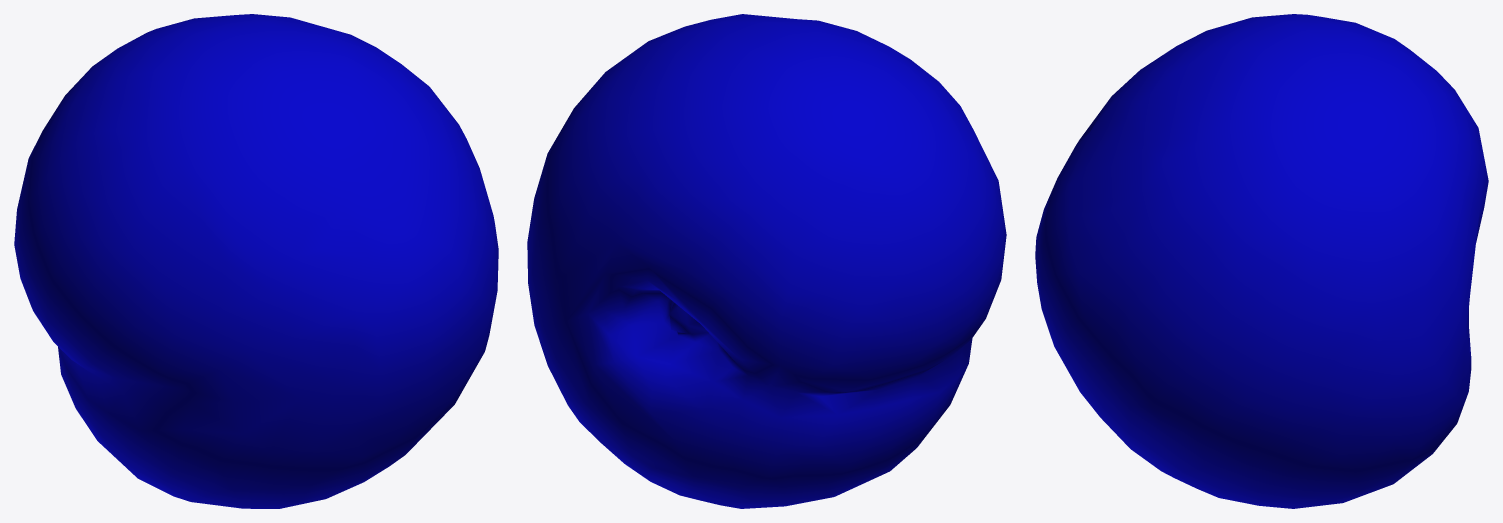
The model's file is 08194_sparse_textured_ok.obj.
3 renders of one model, left to right at view 1: azimuth 30°, elevation 25°; view 2: azimuth 150°, elevation 25°; view 3: azimuth 270°, elevation 25°, orthographic. The views are drawn at different scales.
Visible parts, largest first — view 1: textured_ok; view 2: textured_ok; view 3: textured_ok.
Boxes of the visible parts, bbox=[...] form: textured_ok: bbox=[14, 14, 498, 508]; textured_ok: bbox=[527, 14, 1006, 508]; textured_ok: bbox=[1035, 14, 1488, 508].
Bounding box in the file's own units: 0.0613 × 0.0628 × 0.0586.
